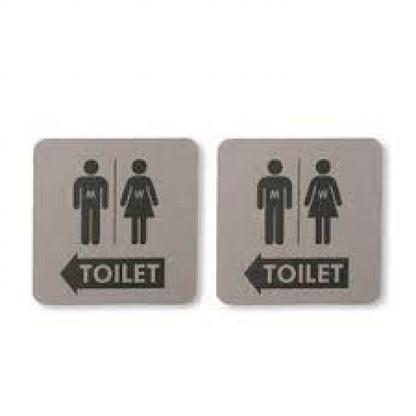toilet: (247, 152, 348, 248), (67, 152, 161, 250)
